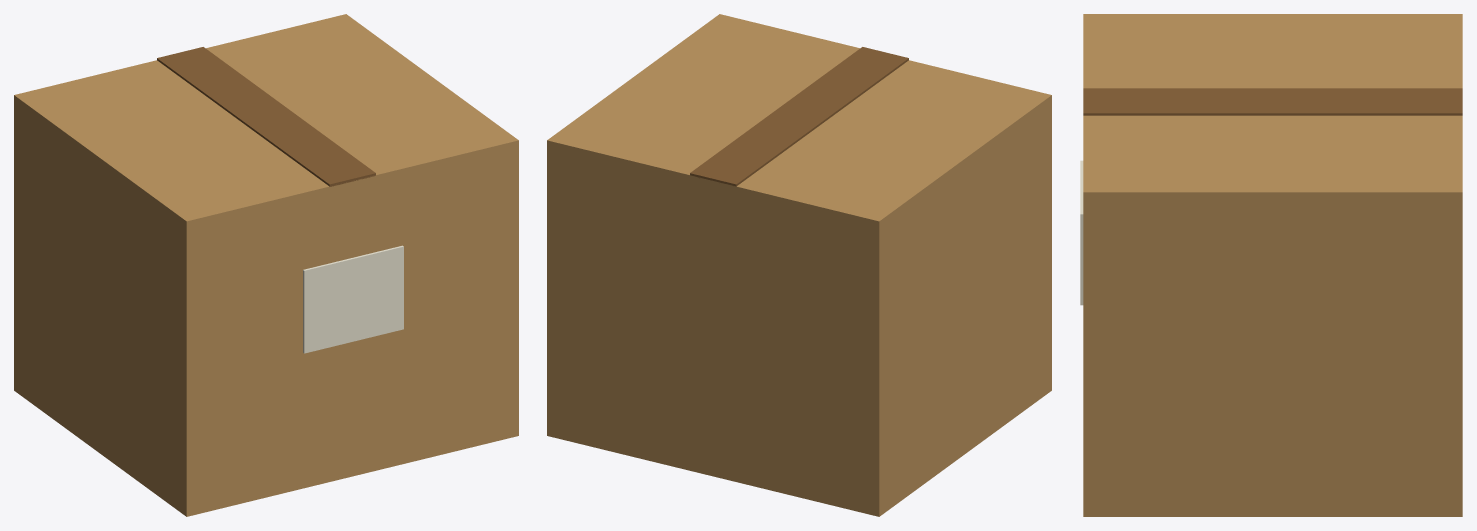
Rendered from BoxLarge.obj.
3 renders of one model, left to right at view 1: azimuth 30°, elevation 25°; view 2: azimuth 150°, elevation 25°; view 3: azimuth 270°, elevation 25°, orthographic. The views are drawn at different scales.
Parts seen in each view (by area): view 1: BoxLarge; view 2: BoxLarge; view 3: BoxLarge.
Part boxes in pixels (<box>): BoxLarge: <box>14,14,518,516</box>; BoxLarge: <box>547,14,1051,516</box>; BoxLarge: <box>1080,14,1462,516</box>.
Bounding box in the file's own units: 1 × 0.856 × 0.907.
